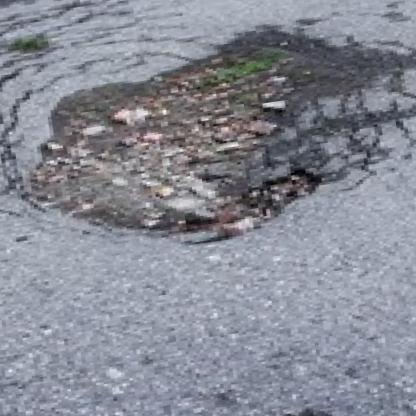pothole: (1, 27, 362, 268)
